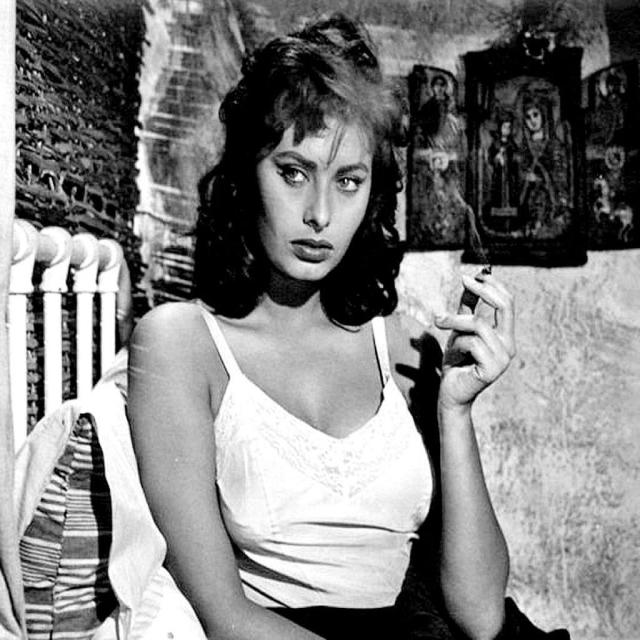smoking: (217, 30, 548, 428)
